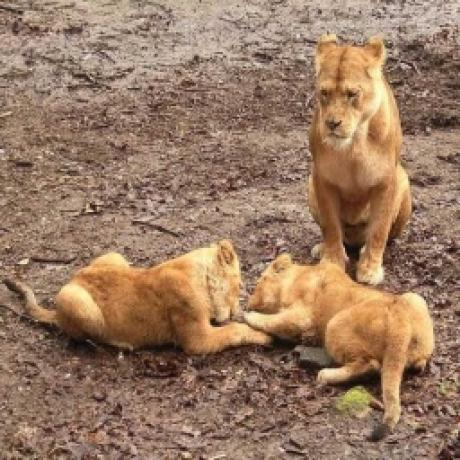Lion: (310, 31, 414, 286)
